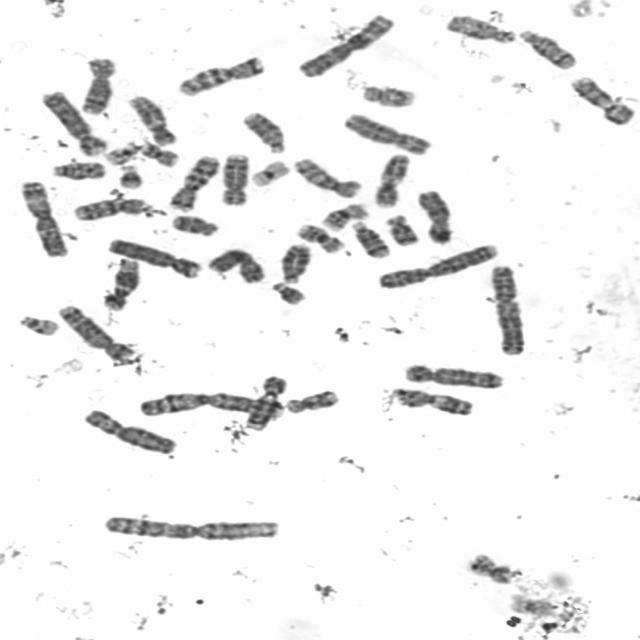A1: (101, 511, 286, 544), (137, 391, 282, 422)
A2: (376, 241, 498, 288), (486, 262, 526, 356)
A3: (296, 14, 398, 79), (17, 178, 70, 258)
B4: (100, 236, 201, 279), (42, 91, 106, 158)
B5: (52, 303, 134, 363), (402, 362, 506, 388)
C10: (293, 155, 363, 201), (73, 198, 152, 220)
C11: (393, 386, 476, 419), (375, 154, 410, 206)
C12: (125, 94, 178, 147), (100, 260, 140, 312)
C6: (81, 406, 176, 457), (344, 113, 432, 155)
C7: (177, 50, 274, 100), (166, 154, 220, 211)
C8: (79, 56, 116, 112), (219, 152, 250, 204)
C9: (569, 74, 637, 135), (245, 374, 290, 432)
D13: (241, 110, 287, 153), (280, 244, 311, 284)
D14: (519, 31, 577, 71), (349, 222, 392, 259)
D15: (442, 16, 517, 44), (51, 162, 107, 182)
E16: (322, 202, 371, 231), (296, 225, 346, 253)
E17: (285, 389, 338, 418), (362, 84, 415, 105)
E18: (170, 212, 226, 240), (385, 215, 418, 247)
F19: (508, 593, 558, 618), (251, 160, 291, 188)
F20: (463, 554, 522, 584), (140, 143, 179, 166)
G21: (270, 280, 306, 306), (119, 163, 143, 190)
G22: (20, 316, 60, 338), (105, 142, 139, 166)
X: (206, 245, 266, 283), (417, 188, 453, 244)
